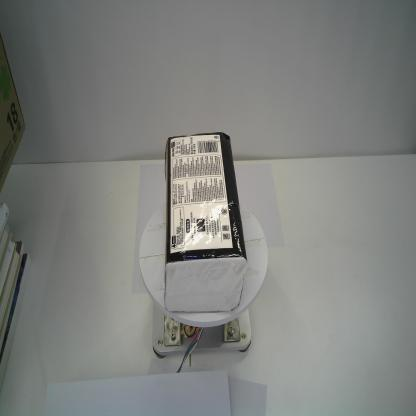Tissue: (162, 132, 248, 313)
